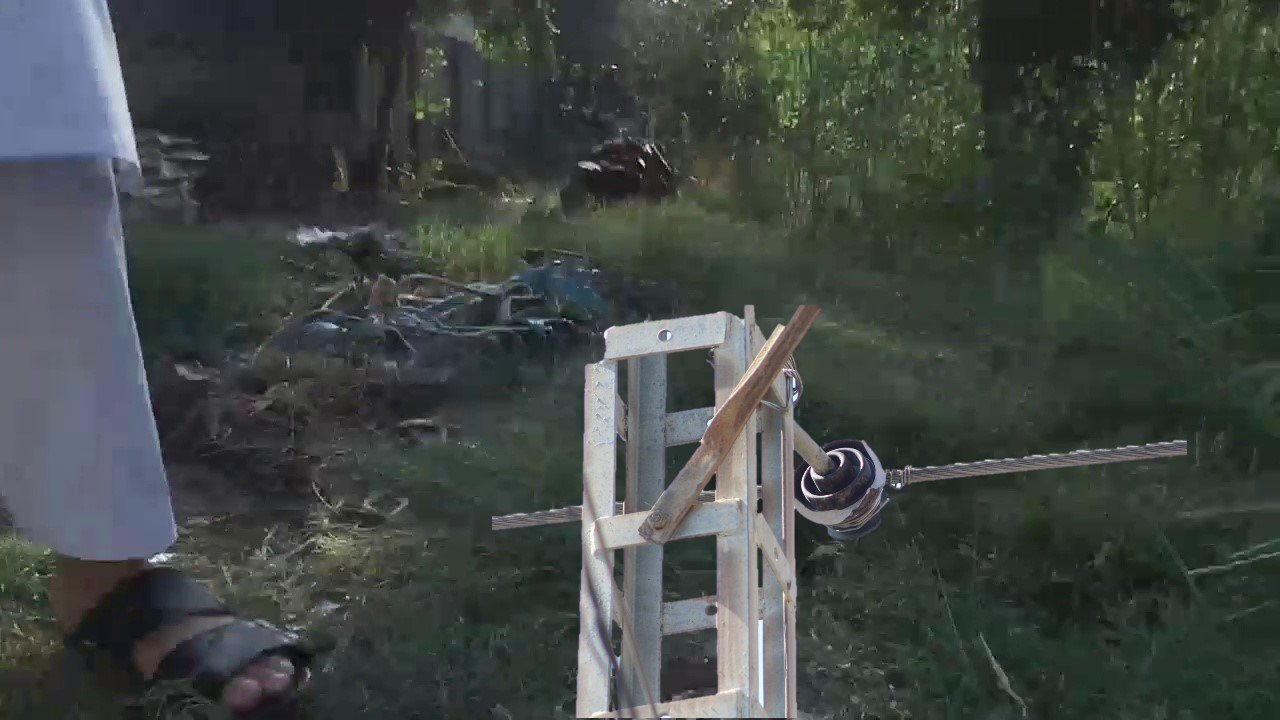defect_pin: (793, 435, 895, 545)
